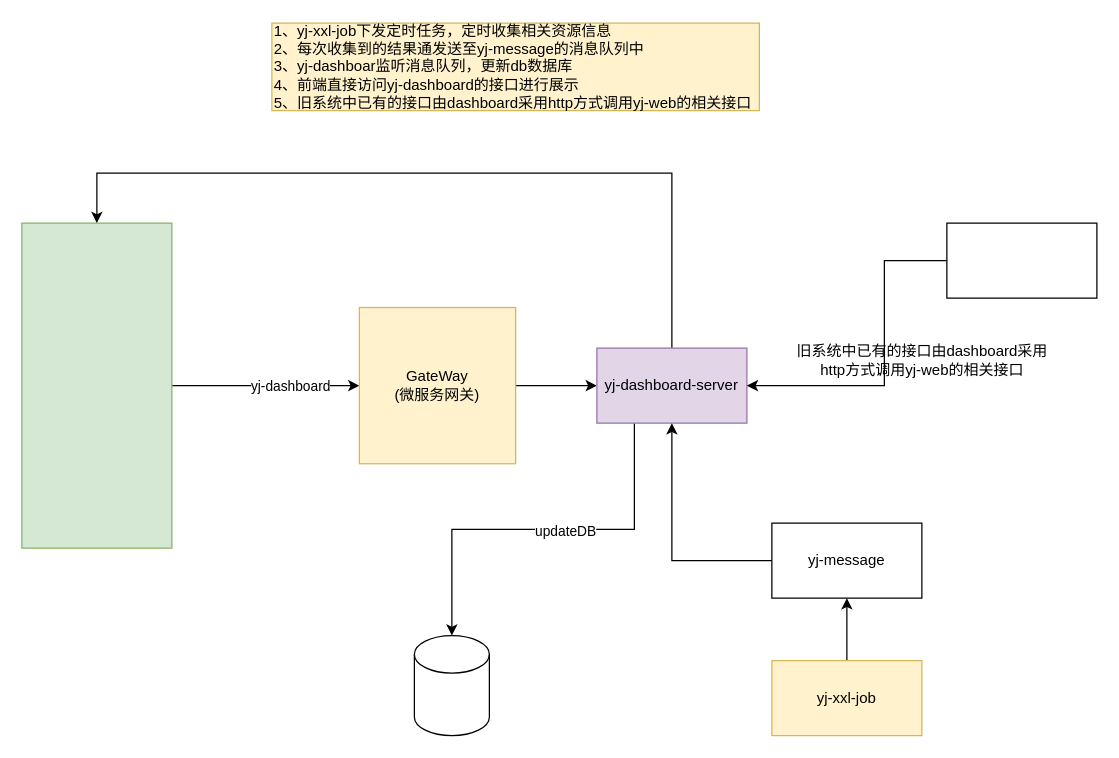
The diagram is 1119 pixels wide and 758 high, and some of its shapes have lost their labels. The shapes that lost their labels are listed below. From the top down, each one's centre as x and y in pixels, then its label:
At (1021,260): "yj-api-server (原yj-web)".
At (96,385): "前端 （VUE）".
